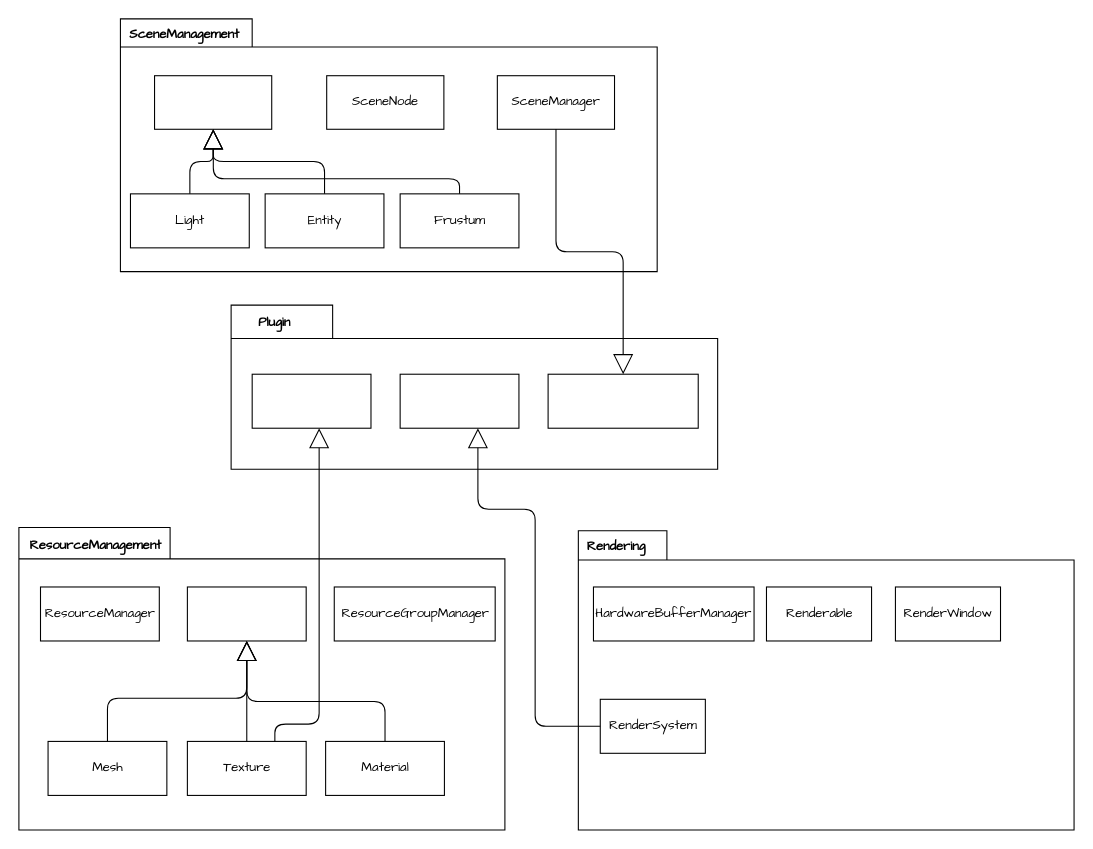
This 1093x849 diagram has some shape labels left out. Each missing label, with the centre of its shape:
GLRenderSystem: the point at 459,400
GLTexture: the point at 311,400
MovableObject: the point at 212,102
OctreeSceneManager: the point at 622,400
Resource: the point at 246,613
